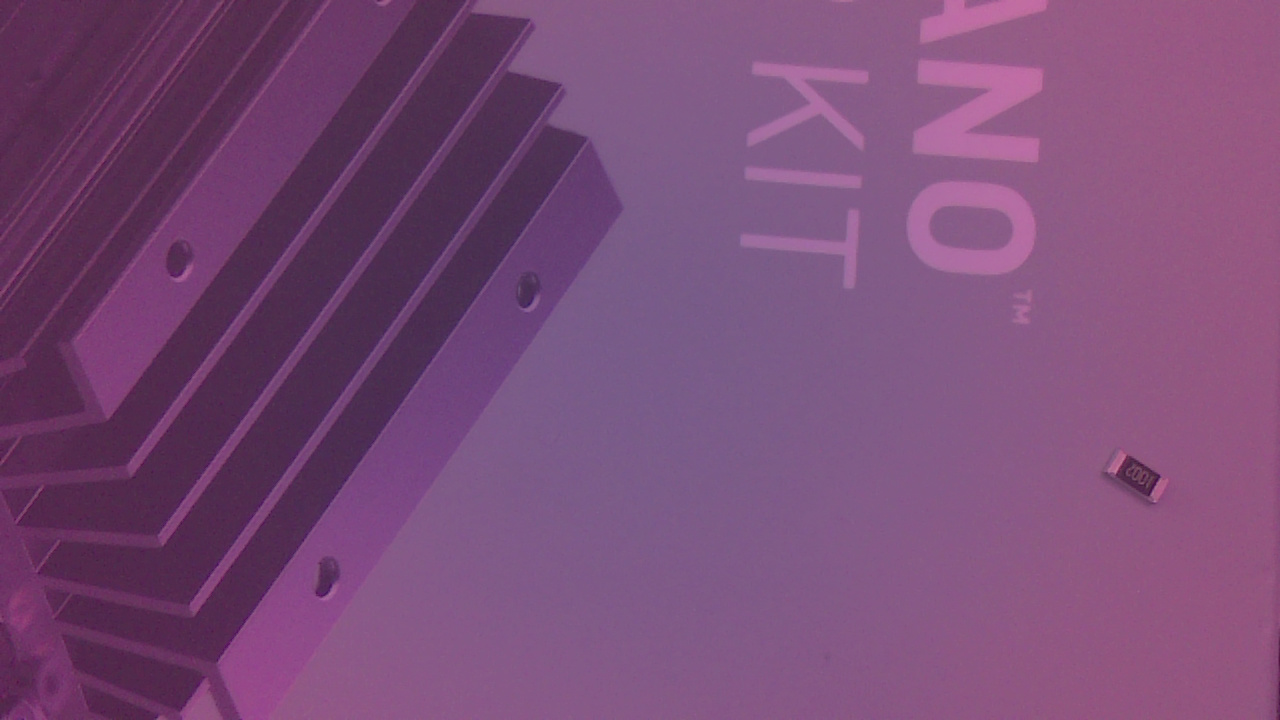Resistor: (1104, 450, 1180, 514)
